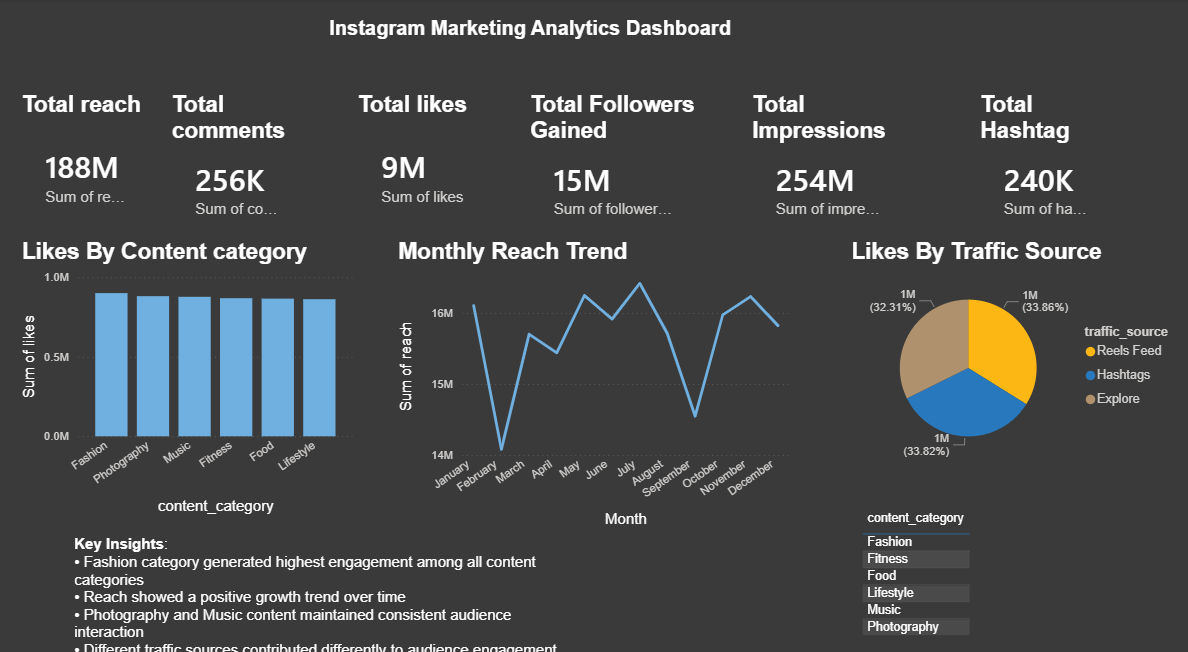

Layout of this report page (visuals, bound fields, positions):
{"tool":"powerbi","page":{"name":"Page 1","canvas":[1280,720],"ordinal":0},"visuals":[{"type":"cardVisual","title":"Total likes","fields":{"Data":["Sum(Instagram_Analytics.likes)"]},"box":[385.5,98.3,150,150],"z":0},{"type":"cardVisual","title":"Total reach","fields":{"Data":["Sum(Instagram_Analytics.reach)"]},"box":[28.3,98.3,150,150],"z":1000},{"type":"cardVisual","title":"Total comments","fields":{"Data":["Sum(Instagram_Analytics.comments)"]},"box":[187.1,98.3,150,150],"z":2000},{"type":"clusteredColumnChart","title":" Likes By Content category","fields":{"Category":["Instagram_Analytics.content_category"],"Y":["Sum(Instagram_Analytics.likes)"]},"box":[29.1,254.2,361.1,297.9],"z":3000},{"type":"lineChart","title":"Monthly Reach Trend","fields":{"Category":["Instagram_Analytics.post_date.Variation.Date Hierarchy.Month"],"Y":["Sum(Instagram_Analytics.reach)"]},"box":[427.5,254.2,424.2,310.9],"z":4000},{"type":"cardVisual","title":"Total Followers Gained","fields":{"Data":["Sum(Instagram_Analytics.followers_gained)"]},"box":[568.3,98.8,187,150],"z":5000},{"type":"textbox","box":[354.7,14.3,466,55.7],"z":6000},{"type":"pieChart","title":"Likes By Traffic Source","fields":{"Y":["Sum(Instagram_Analytics.likes)"],"Category":["Instagram_Analytics.traffic_source"]},"box":[908.4,254.2,359.5,247.7],"z":7000},{"type":"cardVisual","title":"Total Impressions","fields":{"Data":["Sum(Instagram_Analytics.impressions)"]},"box":[803.2,98.3,171,150],"z":8000},{"type":"cardVisual","title":"Total Hashtag","fields":{"Data":["Sum(Instagram_Analytics.hashtags_count)"]},"box":[1045,98.3,150,150],"z":9000},{"type":"tableEx","fields":{"Values":["Instagram_Analytics.content_category"]},"box":[919.7,537.6,297.9,157.1],"z":10000},{"type":"textbox","box":[84.2,565.1,536,144.1],"z":11000}]}

Visuals, with their boxes in screenshot pixels (x1, y1, x2, y2), scaled from the page's 1280x720 canvas onto the 1188x652 screenshot:
"Total likes" cardVisual: box(358, 89, 497, 225)
"Total reach" cardVisual: box(26, 89, 165, 225)
"Total comments" cardVisual: box(174, 89, 313, 225)
" Likes By Content category" clusteredColumnChart: box(27, 230, 362, 500)
"Monthly Reach Trend" lineChart: box(397, 230, 790, 512)
"Total Followers Gained" cardVisual: box(527, 89, 701, 225)
textbox: box(329, 13, 762, 63)
"Likes By Traffic Source" pieChart: box(843, 230, 1177, 454)
"Total Impressions" cardVisual: box(745, 89, 904, 225)
"Total Hashtag" cardVisual: box(970, 89, 1109, 225)
tableEx - Instagram_Analytics.content_category: box(854, 487, 1130, 629)
textbox: box(78, 512, 576, 642)
